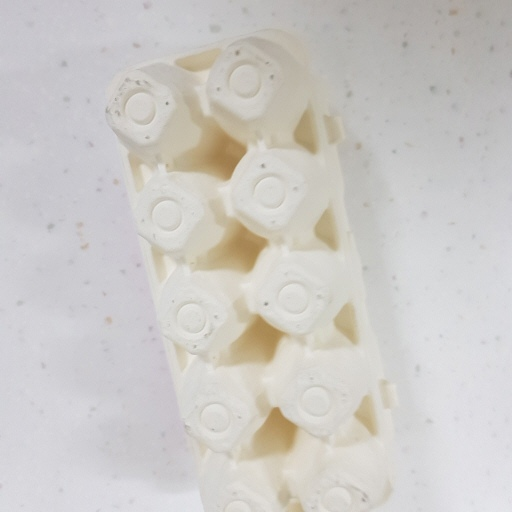Paper_0: (98, 27, 407, 512)
